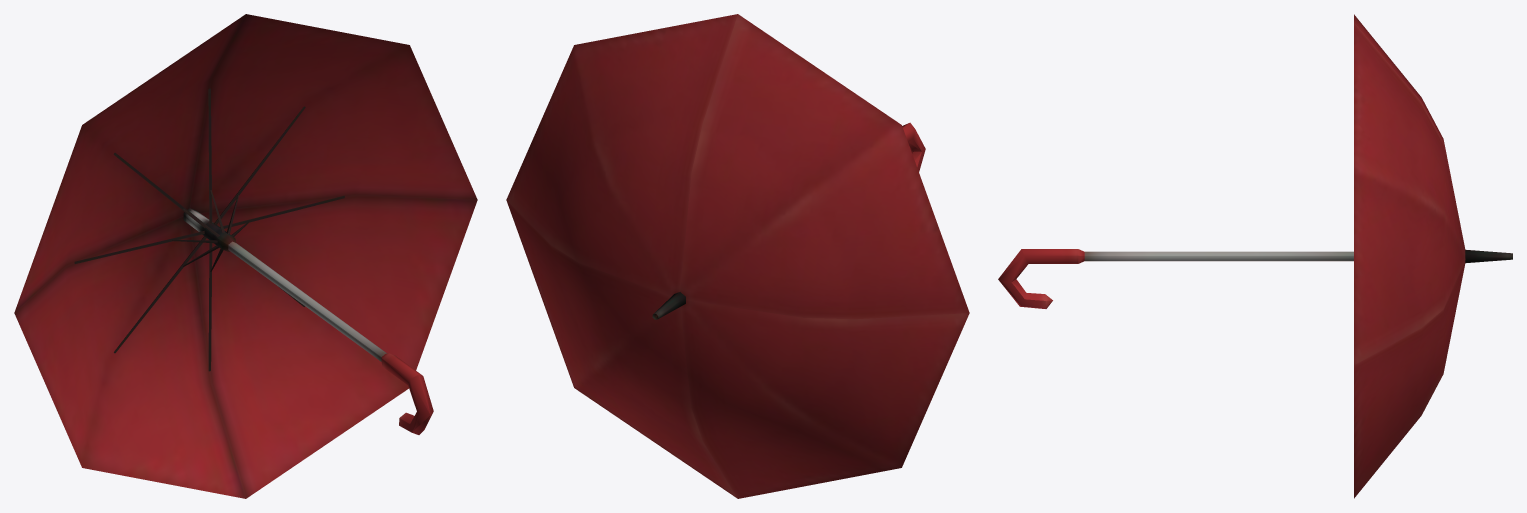
Rendered from umbrella.glb.
3 renders of one model, left to right at view 1: azimuth 30°, elevation 25°; view 2: azimuth 150°, elevation 25°; view 3: azimuth 270°, elevation 25°, orthographic. The views are drawn at different scales.
Visible parts, largest first — view 1: umbrella; view 2: umbrella; view 3: umbrella.
Part boxes in pixels (x1,y1,x2,y2): umbrella: (14,14,477,498); umbrella: (506,14,969,498); umbrella: (998,14,1512,498).
Size of the model in its own units: 0.7365 by 0.7365 by 0.7348.
Materials: 1 (1 with a texture image).
